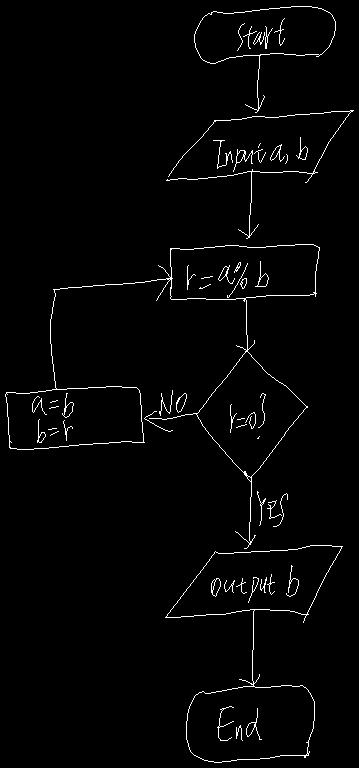arrow: (50, 265, 172, 389), (239, 610, 259, 685), (235, 475, 255, 548), (238, 169, 258, 238), (245, 54, 264, 112), (144, 411, 195, 431), (236, 298, 254, 351)
data: (165, 545, 342, 622), (166, 110, 353, 182)
decision: (195, 349, 307, 481)
process: (5, 386, 144, 449), (170, 244, 319, 299)
terminator: (186, 685, 314, 762), (194, 6, 335, 63)
text: (211, 565, 298, 602), (213, 137, 307, 171), (187, 261, 268, 297), (32, 393, 73, 442), (230, 393, 265, 438), (237, 18, 284, 50), (217, 706, 261, 740), (257, 491, 287, 526), (159, 390, 186, 415)
